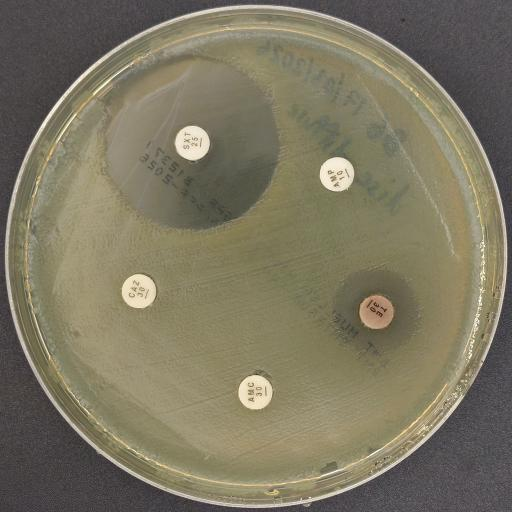disc: (174, 125, 210, 161), (319, 156, 355, 192), (358, 294, 394, 330), (237, 374, 273, 410), (121, 273, 157, 309)
